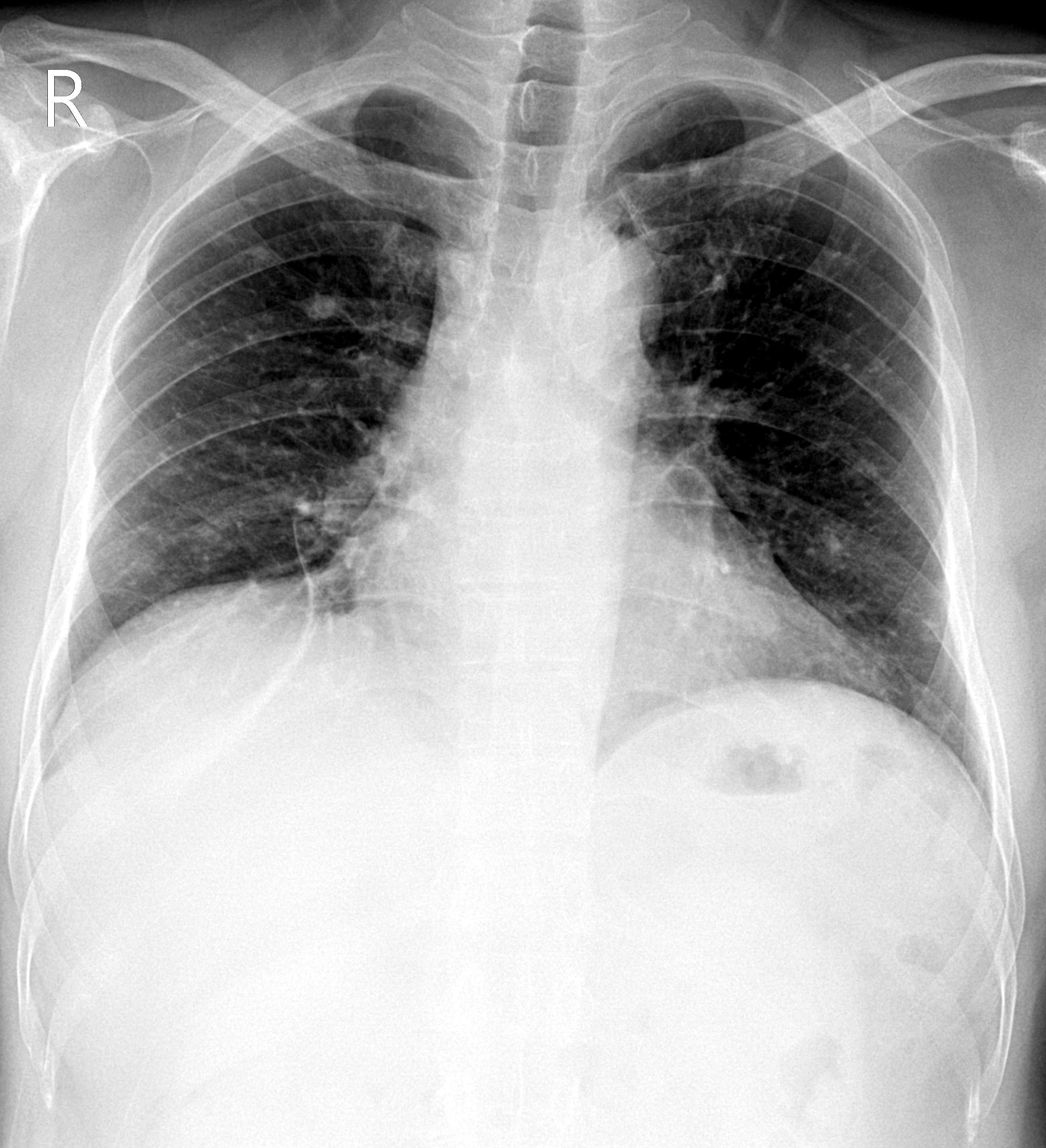Aortic enlargement: (544, 227, 661, 353)
Cardiomegaly: (321, 512, 874, 689)
